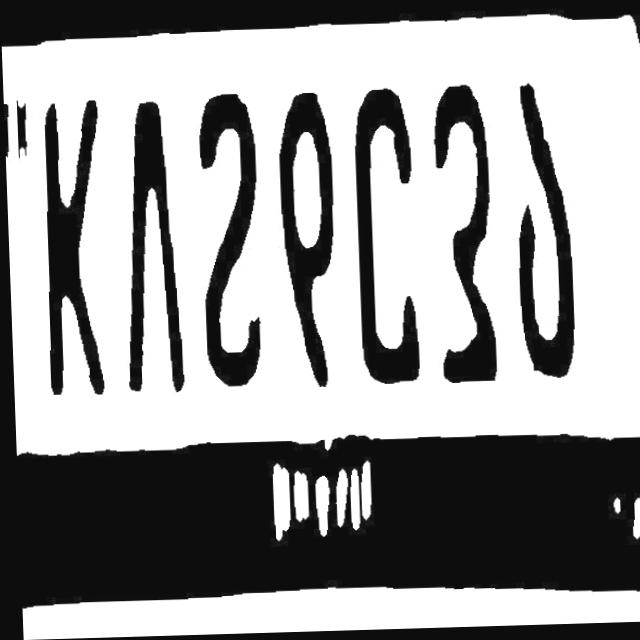3: (436, 68, 516, 400)
6: (280, 89, 349, 410)
9: (507, 66, 585, 410)
c: (345, 78, 436, 405)
k: (39, 94, 128, 416)
s: (192, 93, 278, 420)
v: (116, 103, 194, 414)
